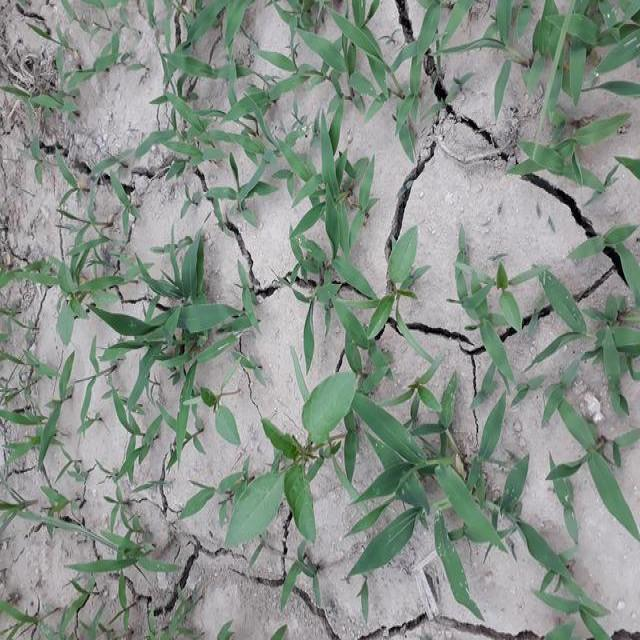weed: (265, 342, 640, 585), (146, 9, 640, 185), (52, 207, 235, 466)
